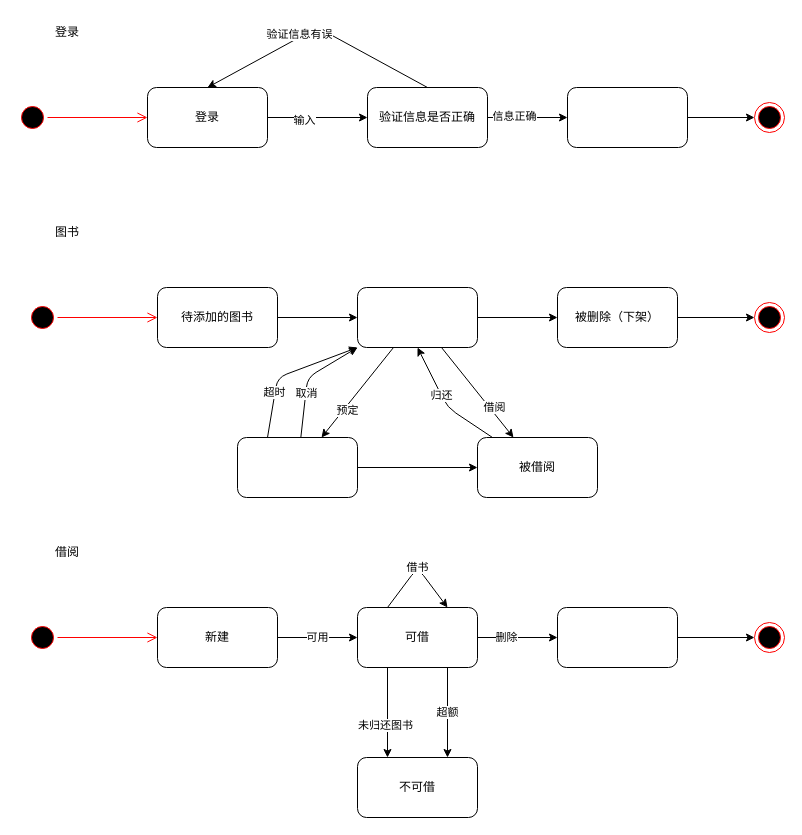
This 802x835 diagram has some shape labels left out. The shapes that lost their labels are listed below. From the top down, each one's centre as x and y in pixels, then its label:
At (x=627, y=117): "登陆成功".
At (x=417, y=317): "能够被借阅".
At (x=297, y=467): "被预定".
At (x=617, y=637): "被删除".
